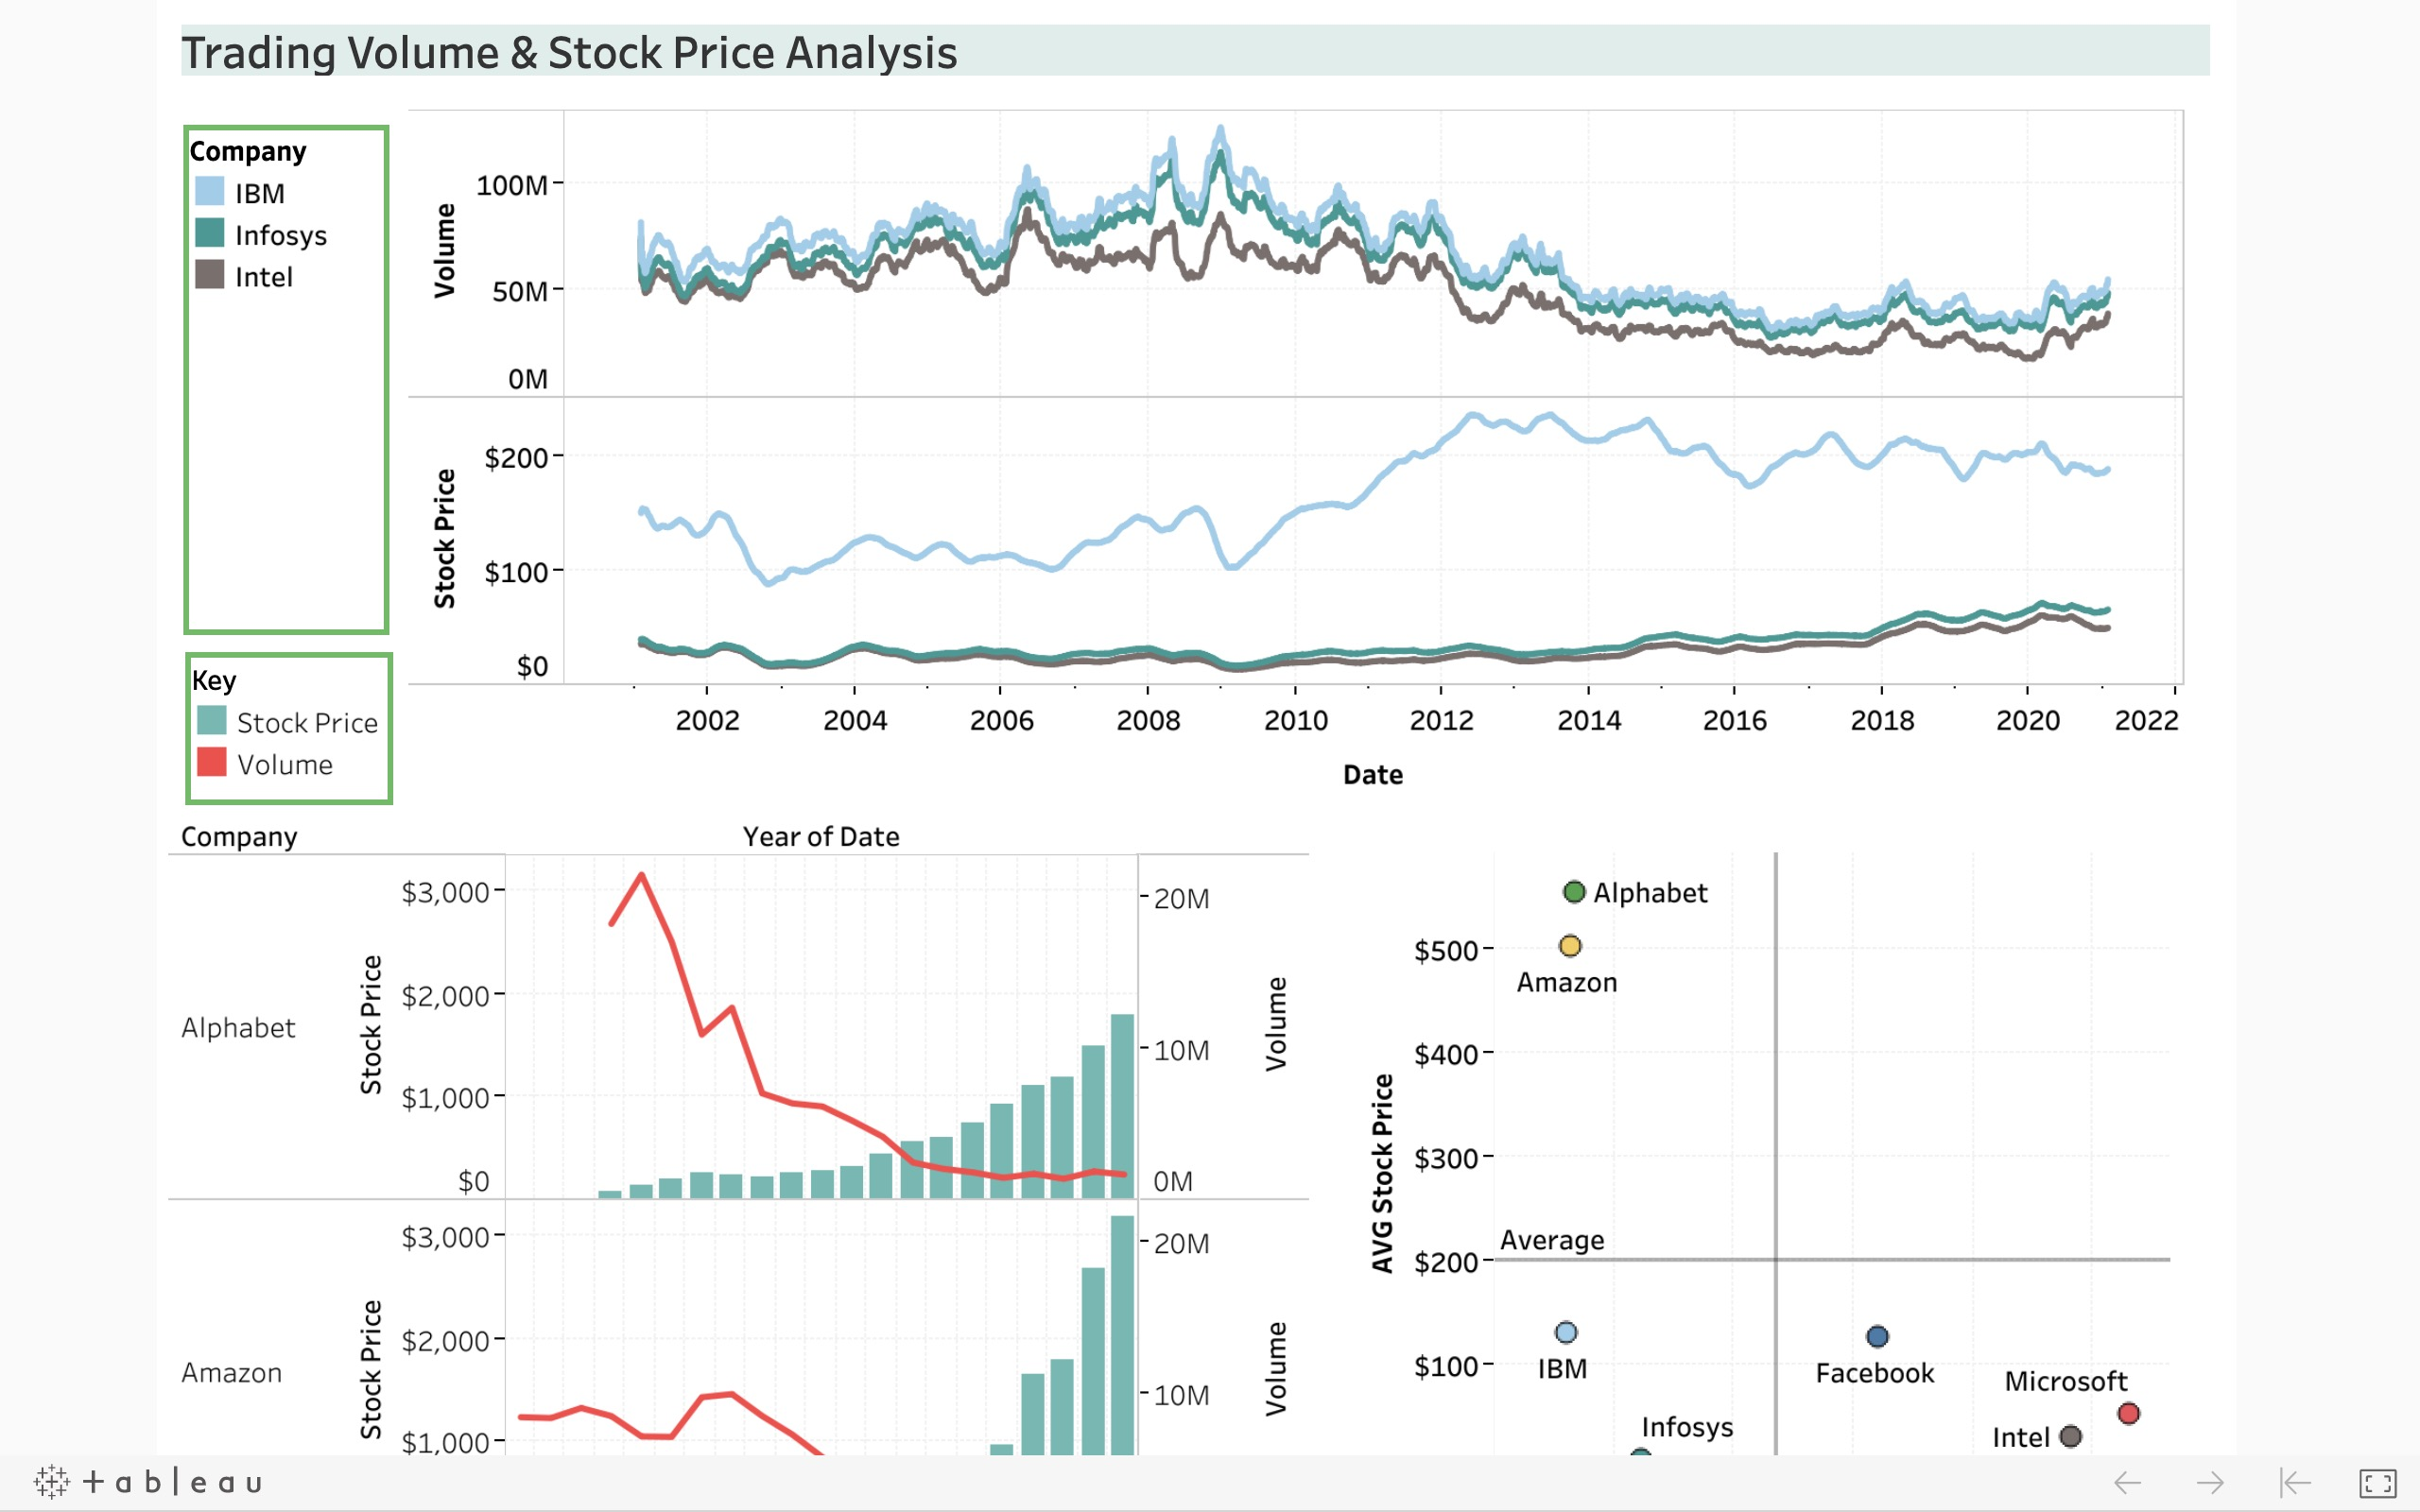

The dashboard page shown, as its layout file describes it:
{"tool":"tableau","page":{"name":"TV Analysis","canvas":[1000,800],"ordinal":0},"visuals":[{"type":"worksheet","box":[0,0,1000,800]},{"type":"worksheet","param":"vert","box":[8,8,984,784]},{"type":"worksheet","box":[8,8,984,32]},{"type":"worksheet","param":"vert","box":[8,40,984,752]},{"type":"worksheet","box":[8,40,984,752]},{"type":"worksheet","title":"#3","mark":"Line","cols":["Date (Union)"],"box":[121,53,855,336]},{"type":"worksheet","title":"#3","mark":"Line","cols":["Date (Union)"],"param":"[federated.0jmc4580o5hyc21g904kt0ytbaw6].[none:Company (Union):nk]","box":[13,60,99,245]},{"type":"worksheet","title":"#4","mark":"Automatic","rows":["Company (Union)","Close (Union)","Volume (Union)"],"cols":["Date (Union)"],"param":"[federated.0jmc4580o5hyc21g904kt0ytbaw6].[:Measure Names]","box":[14,314,100,73]},{"type":"worksheet","title":"#4","mark":"Automatic","rows":["Company (Union)","Close (Union)","Volume (Union)"],"cols":["Date (Union)"],"box":[6,391,549,393]},{"type":"worksheet","title":"#5","mark":"Circle","rows":["Close (Union)"],"cols":["Volume (Union)"],"box":[571,409,399,372]}]}

Visuals, with their boxes on the page's 1000x800 design canvas (x1, y1, x2, y2). These are canvas units, not pixel positions in the 2420x1512 screenshot, which may show the page scaled, cropped or inside an application window:
worksheet: x1=0 y1=0 x2=1000 y2=800
worksheet: x1=8 y1=8 x2=992 y2=792
worksheet: x1=8 y1=8 x2=992 y2=40
worksheet: x1=8 y1=40 x2=992 y2=792
worksheet: x1=8 y1=40 x2=992 y2=792
"#3" worksheet (Line marks): x1=121 y1=53 x2=976 y2=389
"#3" worksheet (Line marks): x1=13 y1=60 x2=112 y2=305
"#4" worksheet: x1=14 y1=314 x2=114 y2=387
"#4" worksheet: x1=6 y1=391 x2=555 y2=784
"#5" worksheet (Circle marks): x1=571 y1=409 x2=970 y2=781
